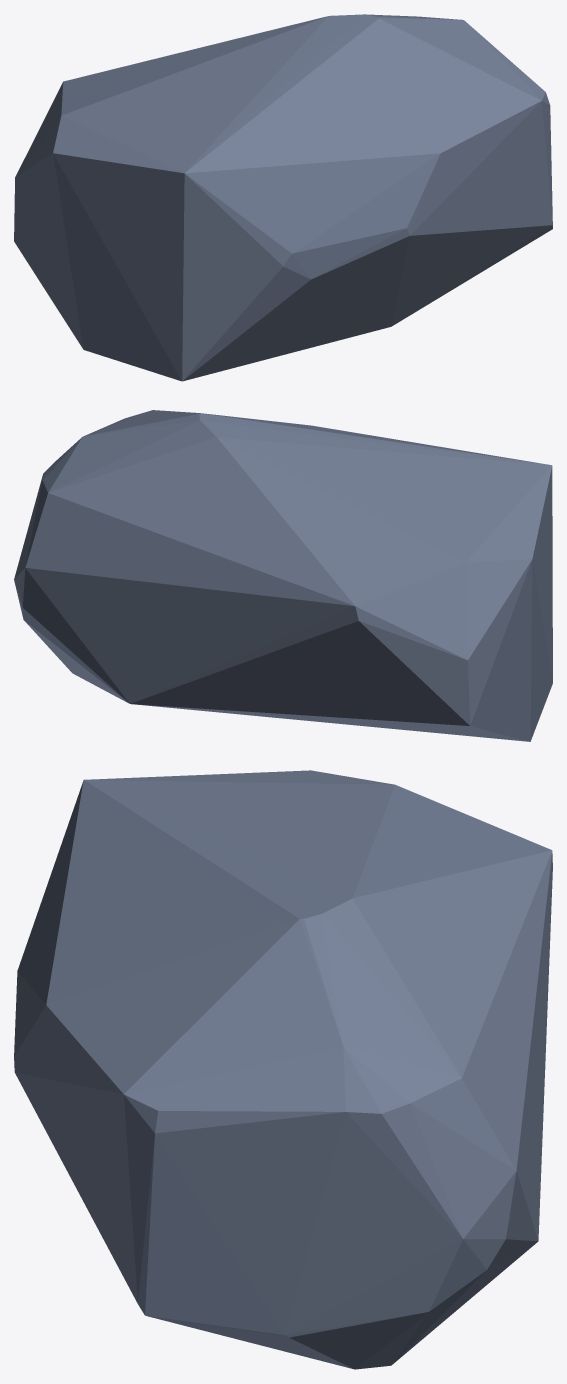
File: airSystem_compressor_c01.glb
3 views of the same model, one above another, from view 1: azimuth 30°, elevation 25°; view 2: azimuth 150°, elevation 25°; view 3: azimuth 270°, elevation 25° (orthographic). The views are drawn at different scales.
Parts seen in each view (by area): view 1: geometry_0; view 2: geometry_0; view 3: geometry_0.
Boxes of the visible parts, x1,y1,x2,y2 form: geometry_0: [14, 14, 552, 381]; geometry_0: [14, 410, 552, 741]; geometry_0: [14, 770, 552, 1369].
Size of the model in its own units: 0.4799 by 0.2672 by 0.3315.
